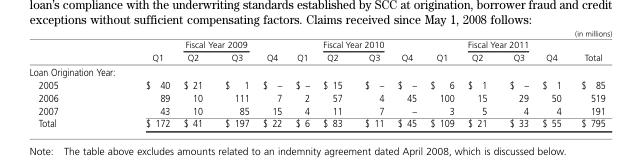table: (28, 28, 611, 128)
table column: (101, 28, 176, 128), (28, 28, 101, 128), (567, 28, 611, 128), (213, 28, 255, 128), (352, 28, 390, 128), (422, 28, 460, 128), (176, 28, 213, 128), (315, 28, 352, 128), (460, 28, 497, 128), (497, 28, 534, 128), (534, 28, 567, 128), (255, 28, 287, 128), (390, 28, 422, 128), (287, 28, 315, 128)
table column header: (28, 28, 611, 64)
table projected row header: (28, 64, 611, 78)
table row: (28, 28, 611, 50), (28, 50, 611, 64), (28, 64, 611, 78), (28, 90, 611, 103), (28, 103, 611, 116), (28, 78, 611, 90), (28, 116, 611, 128)
table spanning cell: (101, 28, 176, 64), (176, 28, 255, 50), (315, 28, 390, 50), (460, 28, 534, 50), (567, 28, 611, 64), (422, 28, 460, 64), (534, 28, 567, 64), (255, 28, 287, 64), (390, 28, 422, 64), (287, 28, 315, 64)
